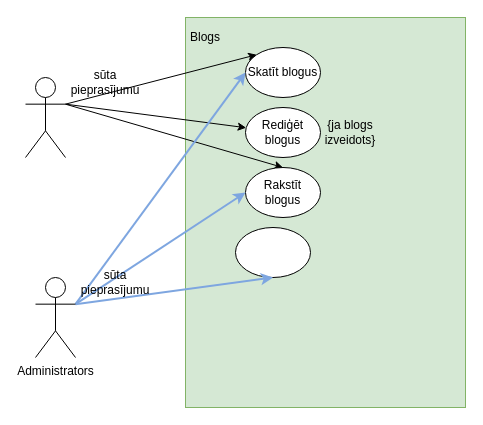
The diagram is 483 pixels wide and 425 high, and some of its shapes have lost their labels. The centre of each missing label's shape, as x and y in pixels:
"Dzēst blogus" goes at point (272, 252).
"Lietotājs" goes at point (45, 117).
